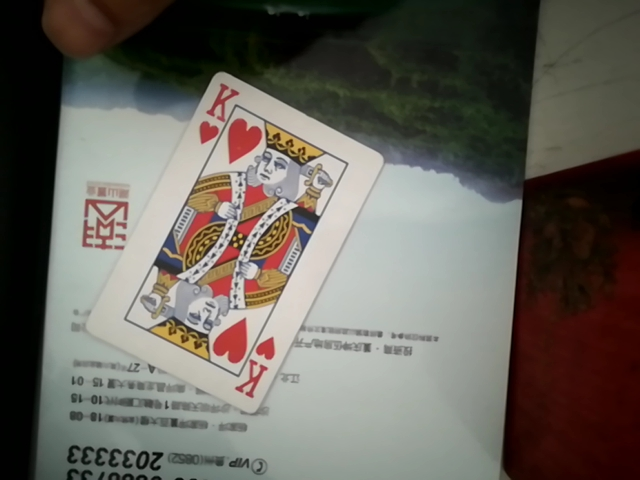hx k: (83, 66, 384, 409)
